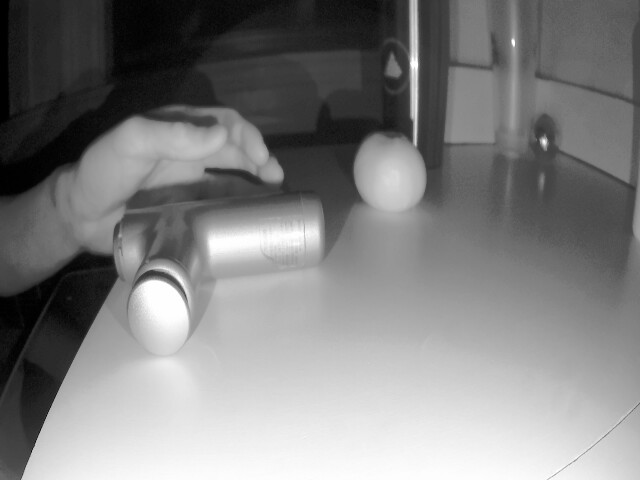silver: (526, 123, 559, 164)
